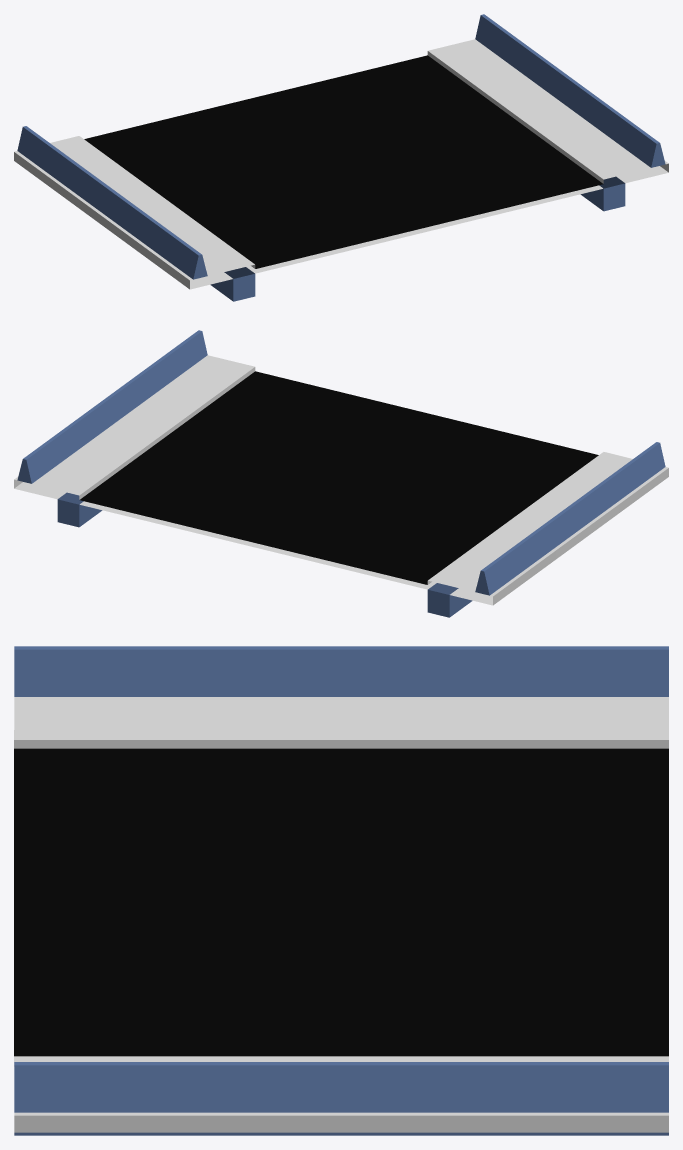
Rendered from Straight 4 Lane Bridge.fbx.
3 renders of one model, top to bottom at view 1: azimuth 30°, elevation 25°; view 2: azimuth 150°, elevation 25°; view 3: azimuth 270°, elevation 25°, orthographic. The views are drawn at different scales.
Parts seen in each view (by area): view 1: Plane; view 2: Plane; view 3: Plane.
Boxes of the visible parts, left/top/right/bottom form: Plane: left=14, top=14, right=668, bottom=301; Plane: left=14, top=330, right=668, bottom=617; Plane: left=14, top=646, right=668, bottom=1135.
Size of the model in its own units: 2200 by 240 by 1400.
